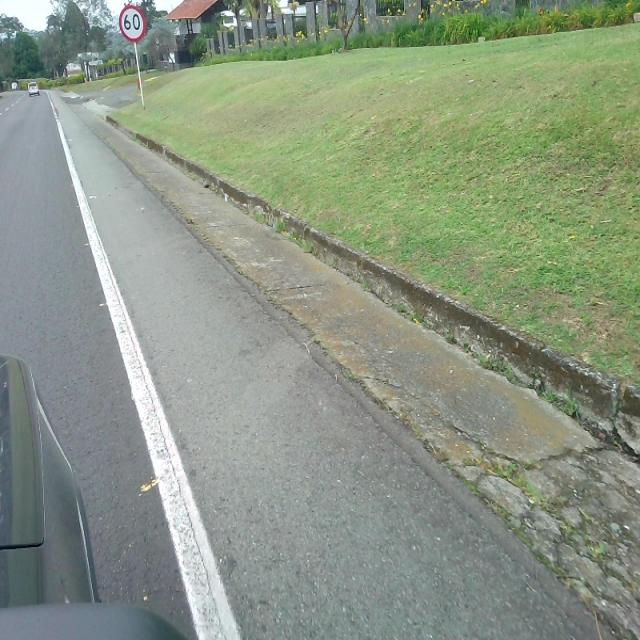DITCH: (56, 87, 638, 638)
